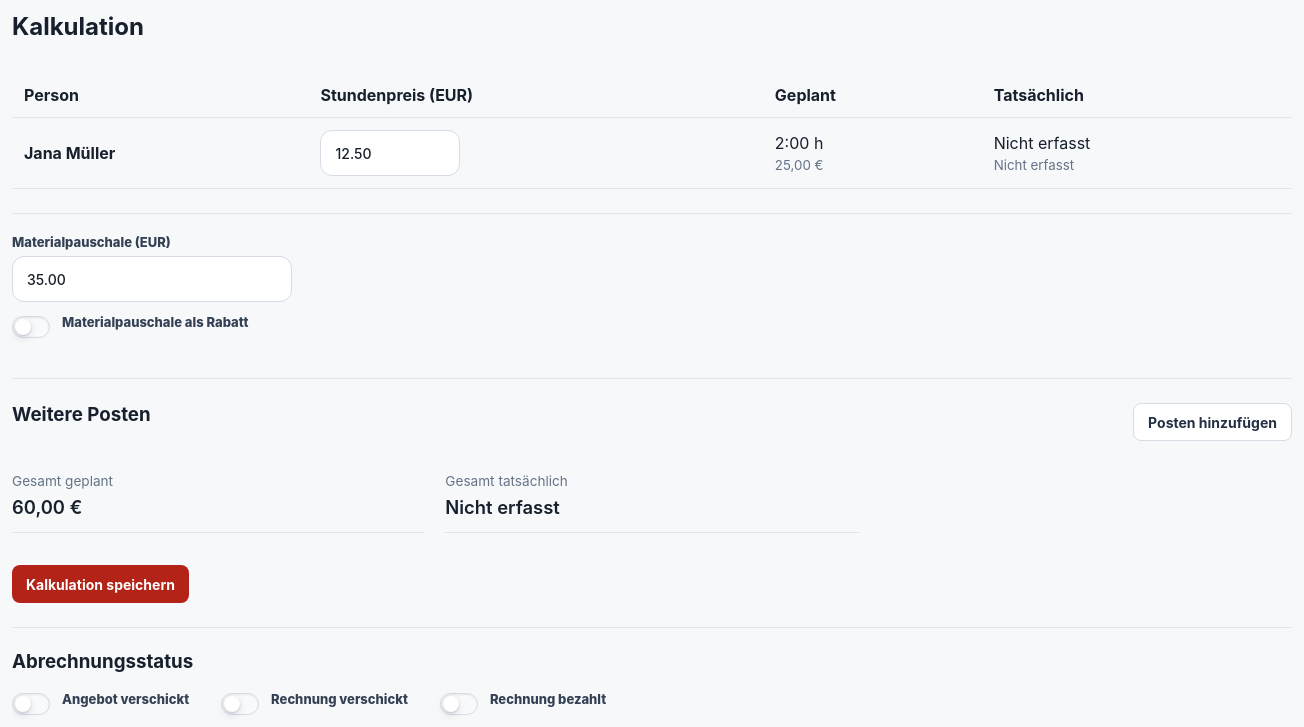
Test case: rejects invalid rates without showing stale totals or sending a request
The width and height of the screenshot is (1304, 727).
Replace the text in the field named "Stundenpreis für Jana Müller (EUR)" with "-2" at point(390, 153), box [320,130,460,176]
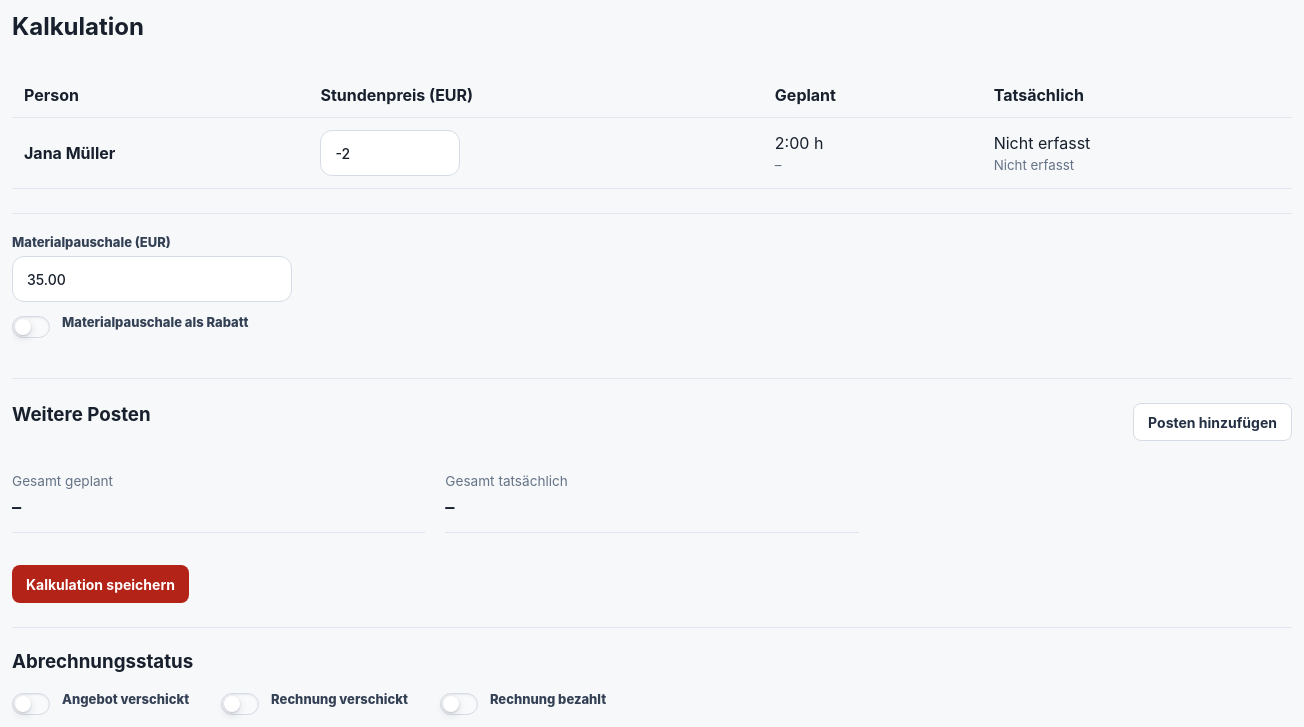
Expected: the text "–" below "Gesamt geplant" is shown, [12,496,21,518]
Click the button "Kalkulation speichern" at point(100, 584), box [12,565,189,603]
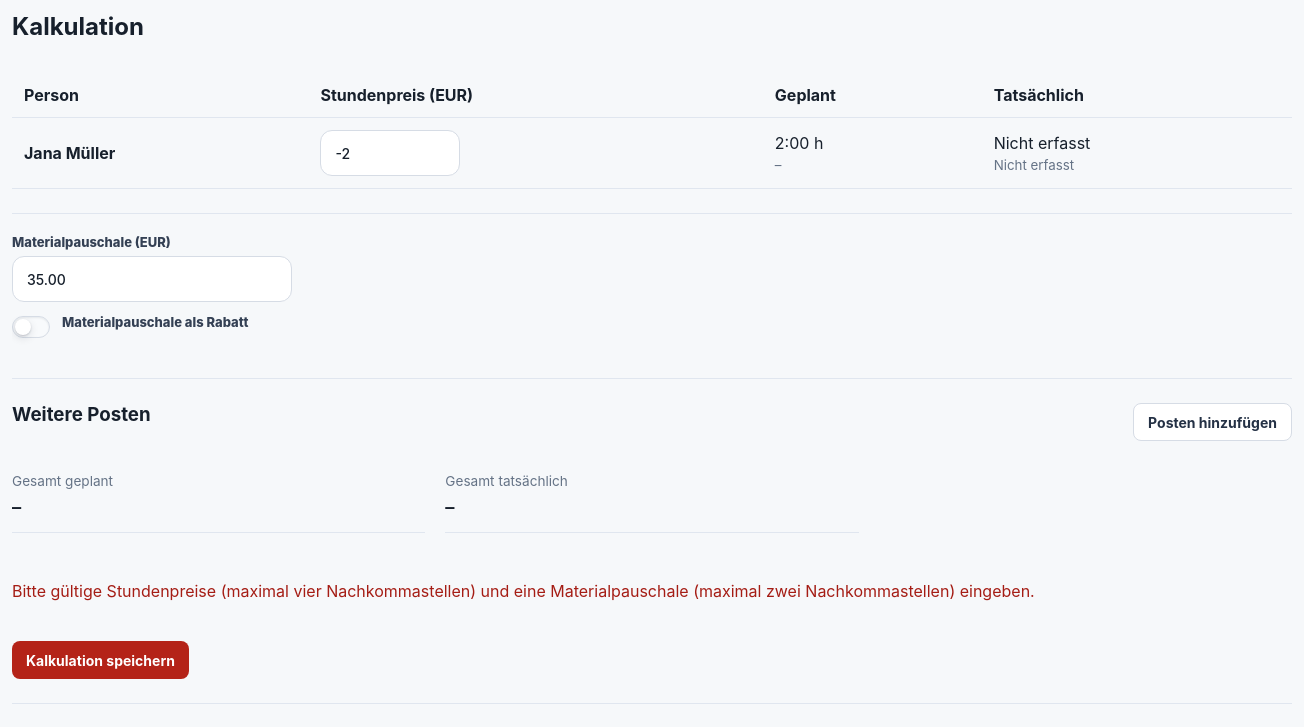
Expected: the message shows "gültige Stundenpreise", [12,581,1035,601]
